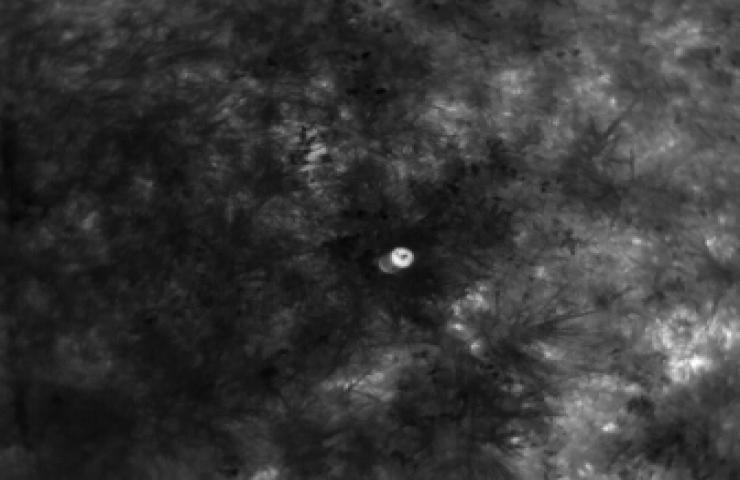landmines: (376, 246, 417, 277)
